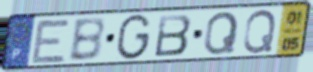B: (152, 13, 194, 59), (66, 16, 107, 63)
E: (29, 18, 73, 66)
G: (114, 12, 154, 62)
Q: (202, 10, 241, 57), (241, 8, 279, 55)
